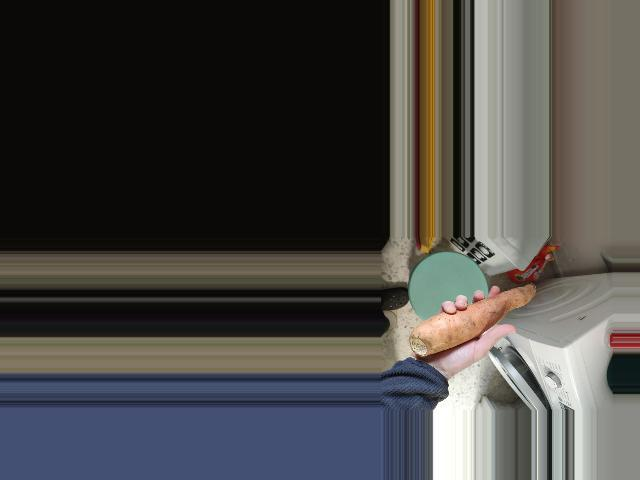sweet_potato: (407, 278, 545, 360)
